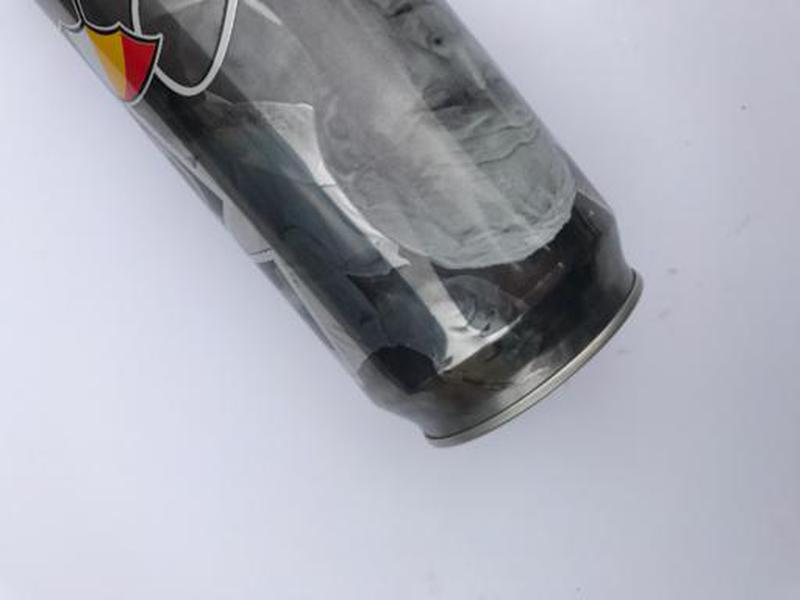can: (28, 1, 649, 454)
